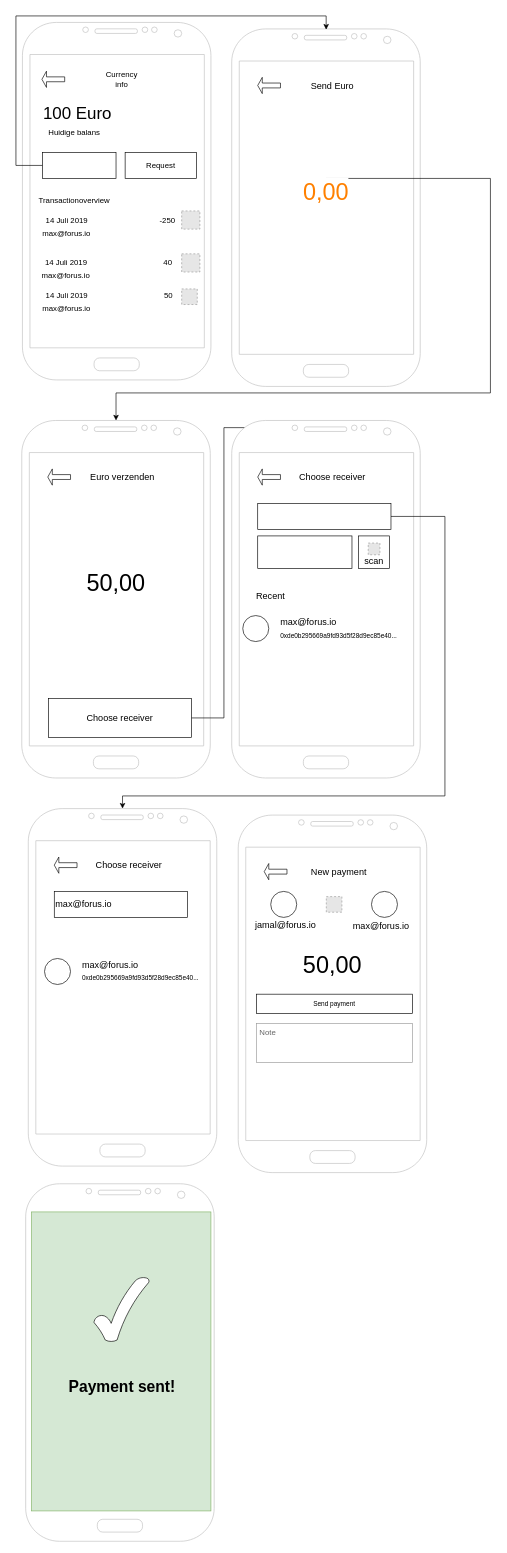
This 507x1553 diagram has some shape labels left out. Grey dashed boxes stand in for pictures. The shapes that lost their labels are listed below. From the top down, each one's centre as x and y in pixels, then its label:
At point 79,165: "Send".
At point 324,516: "Search...".
At point 304,551: "Fill in address 0x01".
